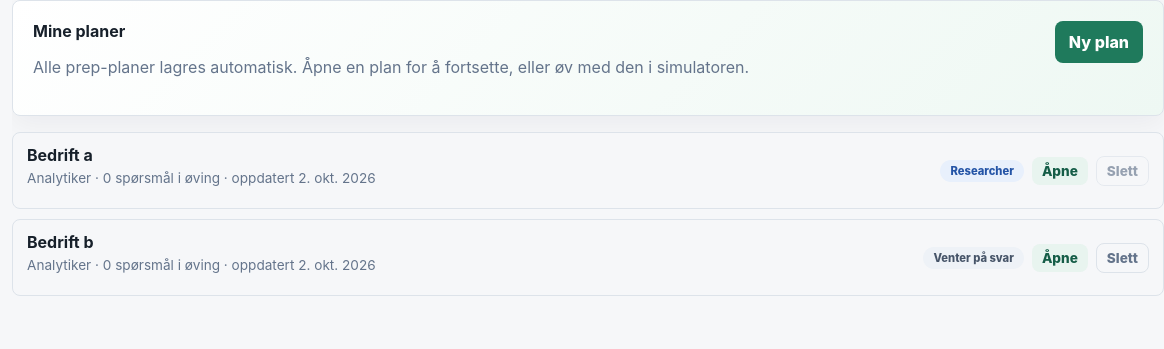
InterviewPlansView › does not offer deletion while research runs and shows a refusal from the server
Check: the button "Slett" in the row of "Researcher" is disabled, box [1096,156,1149,186]
Click the button "Slett" in the row of "Venter på svar": click(1122, 258) [1096,242,1149,272]
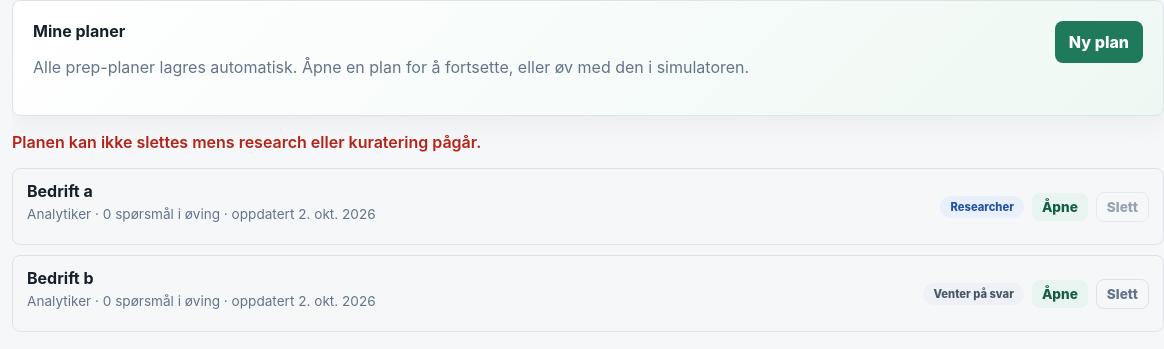
Check: the number of list items is 2, box [12,168,1163,245]; [12,255,1163,332]
Check: the text "Planen kan ikke slettes mens research eller kuratering pågår." is shown, box [12,132,481,152]
